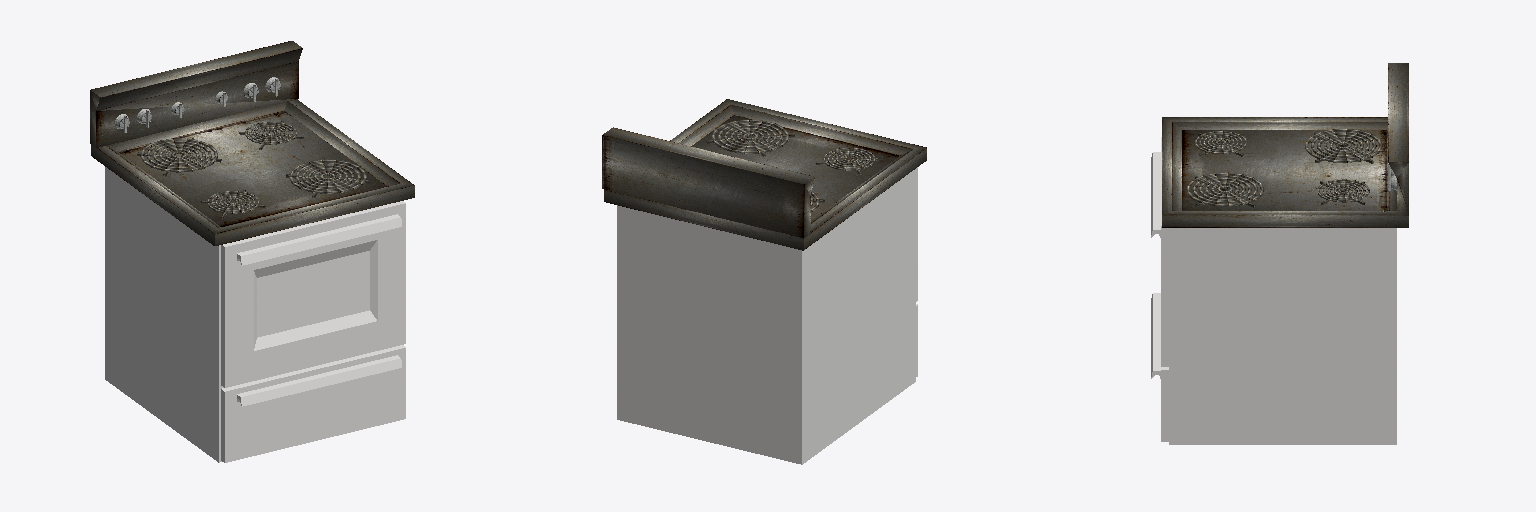
The picture shows the model from 3 angles: view 1: azimuth 30°, elevation 25°; view 2: azimuth 150°, elevation 25°; view 3: azimuth 270°, elevation 25°; orthographic projection.
Visible parts, largest first — view 1: Box004, Box007, Box008, Box009, Box003, Tube001, Tube002, Tube004, Tube003; view 2: Box007, Box008, Box003, Tube001, Tube004; view 3: Box007, Box008, Box003, Box004, Tube002, Tube001, Box009, Tube003, Tube004.
Part boxes in pixels (x1,y1,x2,y2): Box004: (221, 201, 405, 387); Box007: (105, 167, 223, 462); Box008: (91, 99, 414, 245); Box009: (221, 345, 405, 462); Box003: (90, 41, 302, 147); Tube001: (289, 160, 366, 193); Tube002: (140, 138, 217, 172); Tube004: (207, 191, 259, 213); Tube003: (245, 122, 296, 144); Box007: (617, 169, 915, 464); Box008: (604, 99, 926, 250); Box003: (602, 127, 814, 237); Tube001: (712, 120, 788, 153); Tube004: (823, 148, 875, 170); Box007: (1169, 228, 1396, 444); Box008: (1162, 117, 1408, 227); Box003: (1388, 63, 1408, 215); Box004: (1151, 137, 1168, 366); Tube002: (1305, 129, 1382, 162); Tube001: (1187, 172, 1263, 206); Box009: (1151, 293, 1168, 441); Tube003: (1318, 179, 1369, 202); Tube004: (1195, 131, 1247, 153).
Bounding box in the file's own units: 0.567 × 0.7687 × 0.6285.
3 materials, 3 textured.